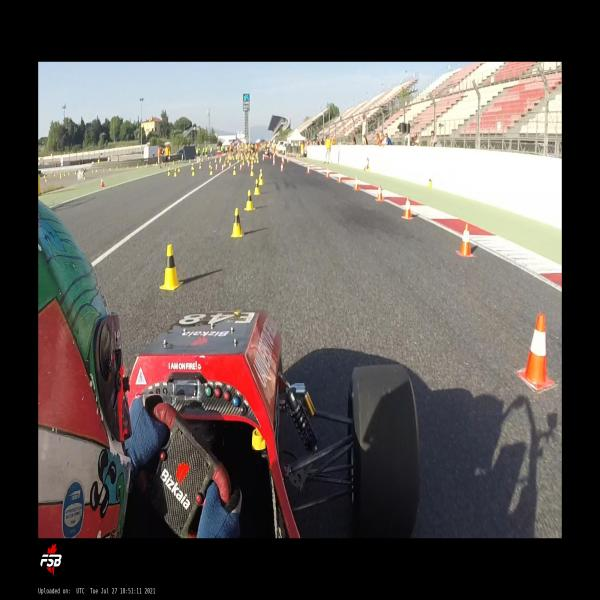orange_cone: (517, 313, 555, 390), (456, 223, 474, 258), (401, 196, 413, 220), (375, 186, 384, 202), (353, 176, 359, 190), (100, 177, 106, 188), (337, 174, 342, 184), (325, 169, 330, 178), (306, 165, 311, 174), (280, 163, 284, 173), (233, 166, 237, 175), (239, 163, 243, 171), (272, 158, 276, 166), (228, 161, 232, 168), (215, 164, 218, 171), (222, 164, 225, 170), (247, 160, 250, 166)
yellow_cone: (160, 244, 184, 290), (230, 207, 244, 237), (244, 189, 255, 210), (254, 179, 260, 195), (258, 172, 264, 184), (426, 178, 432, 189), (250, 166, 255, 177), (260, 167, 264, 178), (209, 167, 214, 175), (174, 168, 178, 177), (192, 167, 196, 176), (233, 166, 237, 175), (208, 160, 212, 168), (167, 168, 171, 176), (191, 163, 194, 170), (199, 162, 202, 169), (178, 166, 181, 172), (84, 174, 86, 180), (242, 160, 244, 166), (256, 158, 258, 164), (254, 157, 256, 163), (224, 160, 225, 167)
